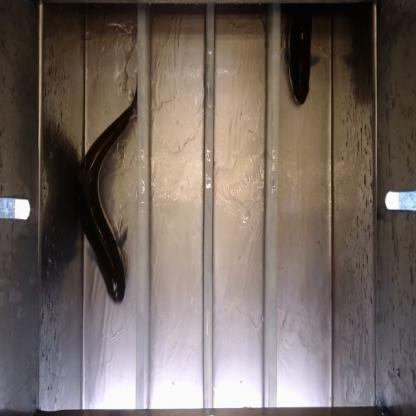pezw: (76, 66, 136, 309), (283, 3, 322, 113)
